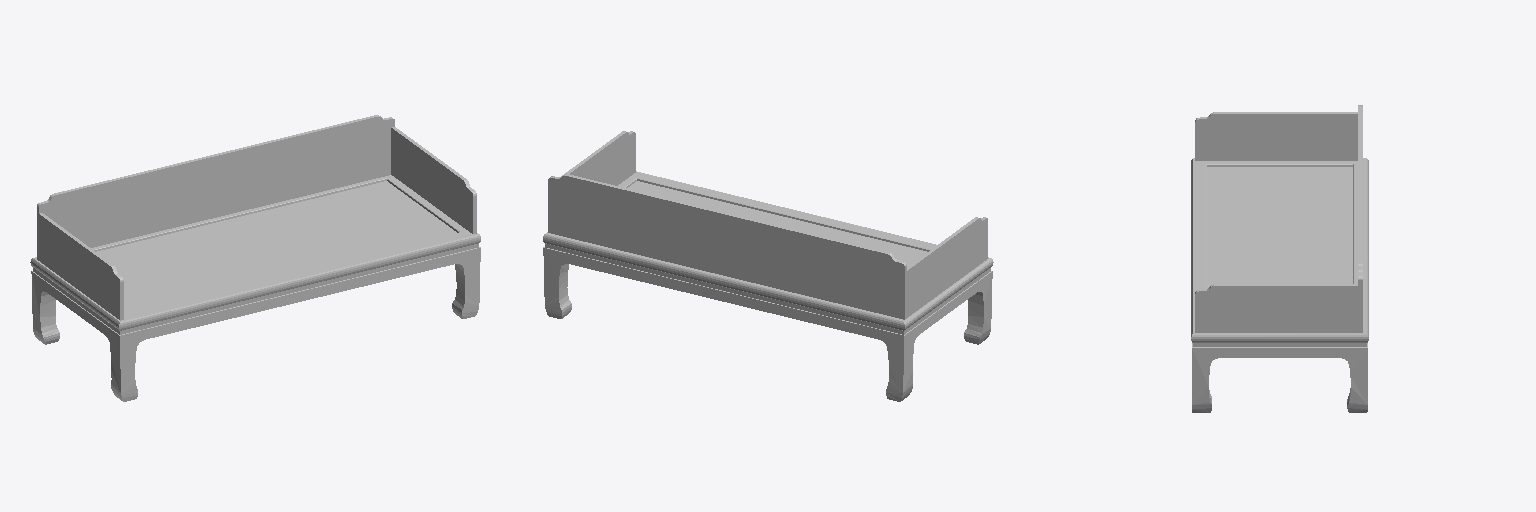
The model's file is chinese_sofa_4k.mtl.obj.
3 renders of one model, left to right at view 1: azimuth 30°, elevation 25°; view 2: azimuth 150°, elevation 25°; view 3: azimuth 270°, elevation 25°, orthographic.
Visible parts, largest first — view 1: chinese_sofa; view 2: chinese_sofa; view 3: chinese_sofa.
Boxes of the visible parts, x1=… form: chinese_sofa: x1=30, y1=115, x2=480, y2=401; chinese_sofa: x1=543, y1=131, x2=993, y2=401; chinese_sofa: x1=1191, y1=105, x2=1368, y2=412.
Bounding box in the file's own units: 2.29 × 0.86 × 0.9689.